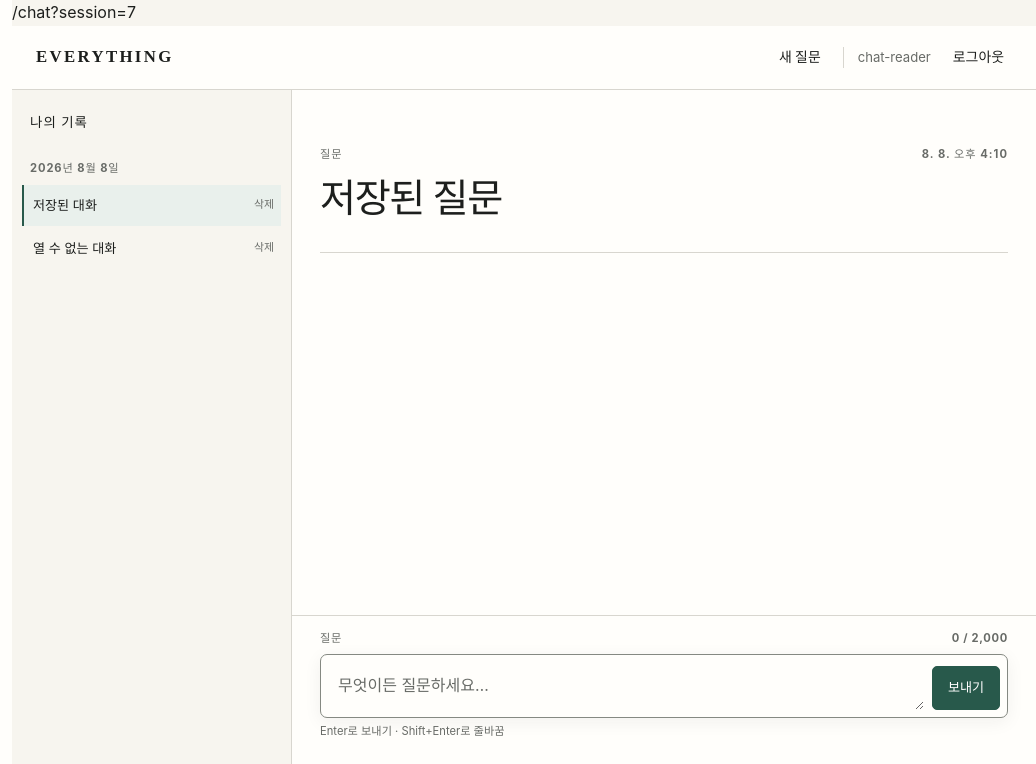
Test case: ChatPage › shows one failed session load and waits for an explicit retry
Expected: the heading "저장된 질문" is shown, left=320, top=176, right=502, bottom=220
# 기록 레일에서 두 번째 대화를 사용자가 직접 선택한다.
Click the button "열 수 없는 대화" at (136, 248), box left=24, top=228, right=247, bottom=268
(page scrolled)
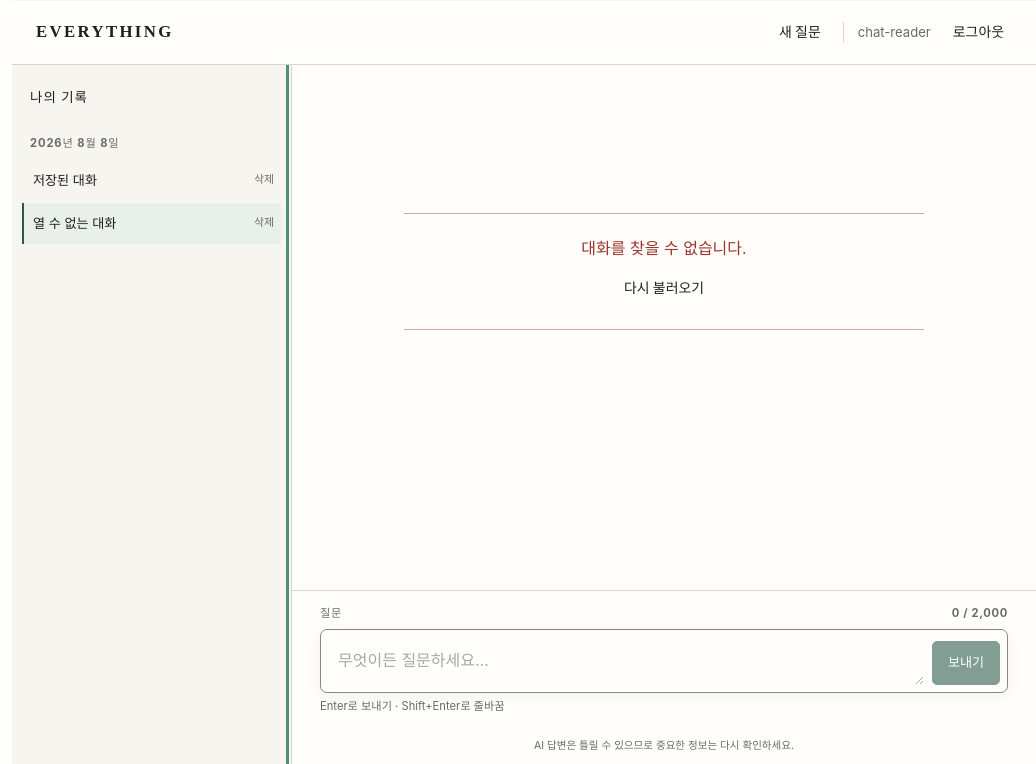
Result: the text "대화를 찾을 수 없습니다." is shown at left=581, top=238, right=747, bottom=258
Result: the button "다시 불러오기" is shown at left=616, top=269, right=712, bottom=307
